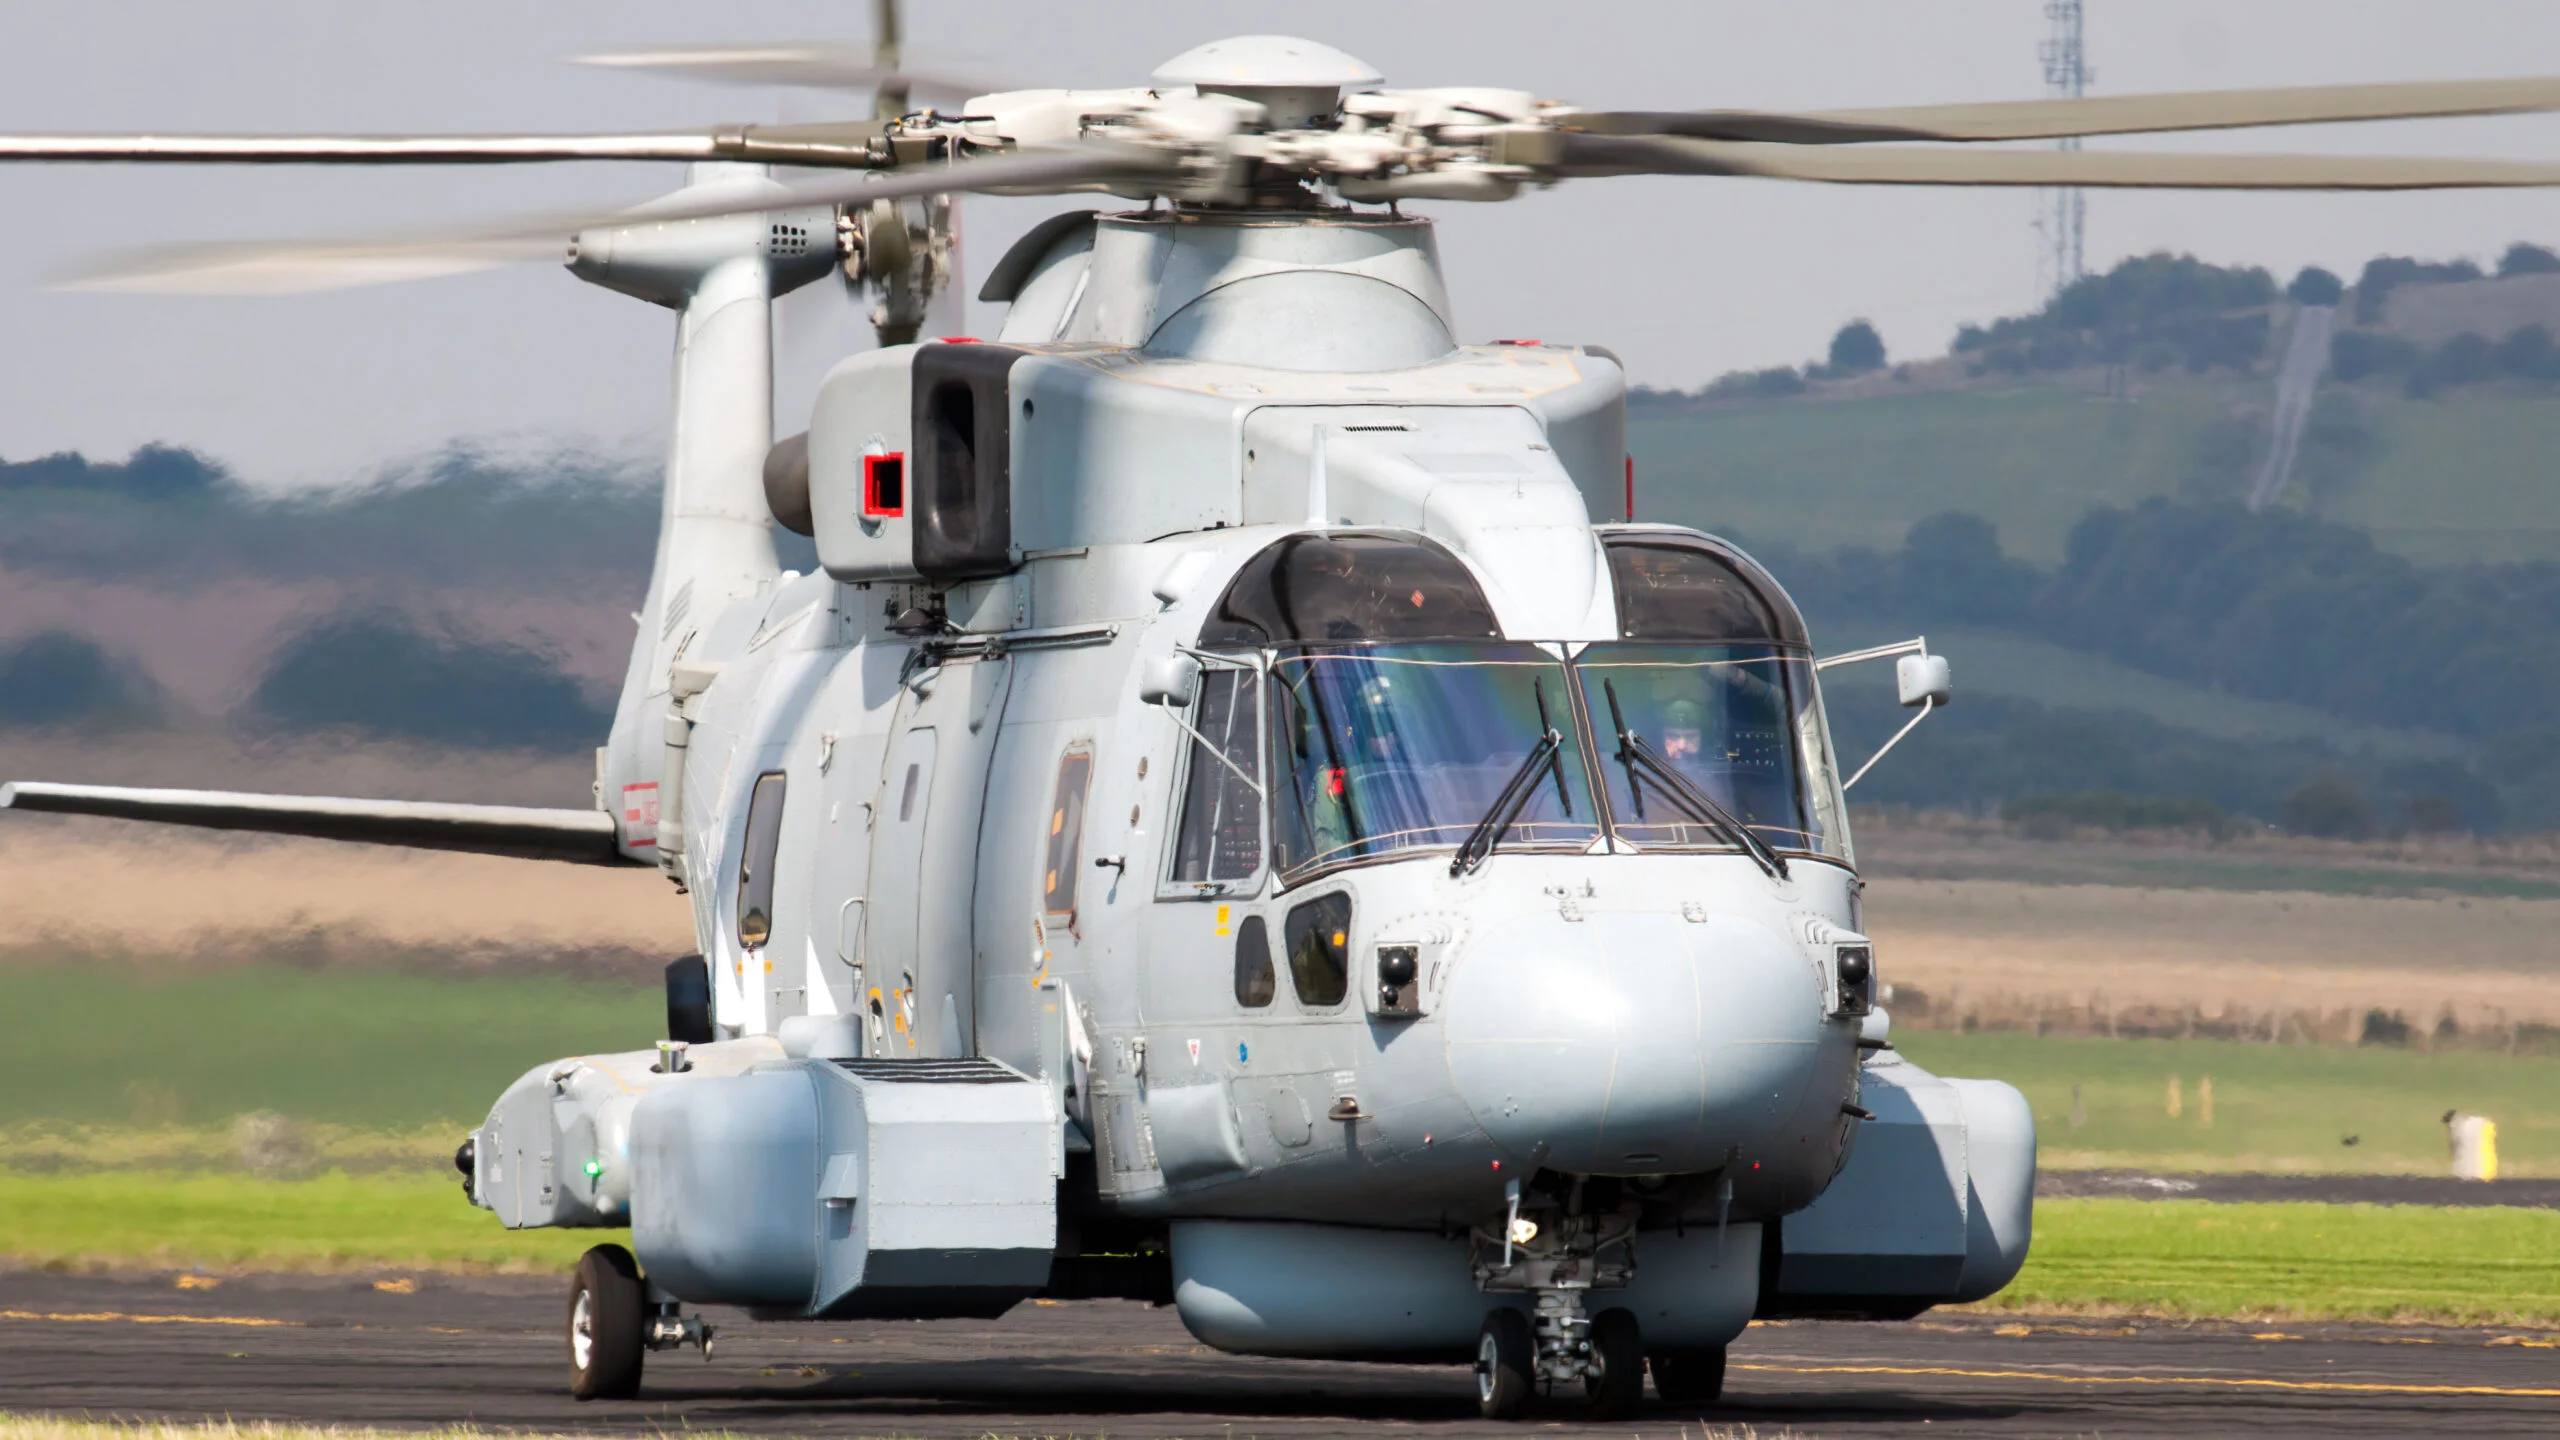Merlin: (406, 7, 2075, 1414)
